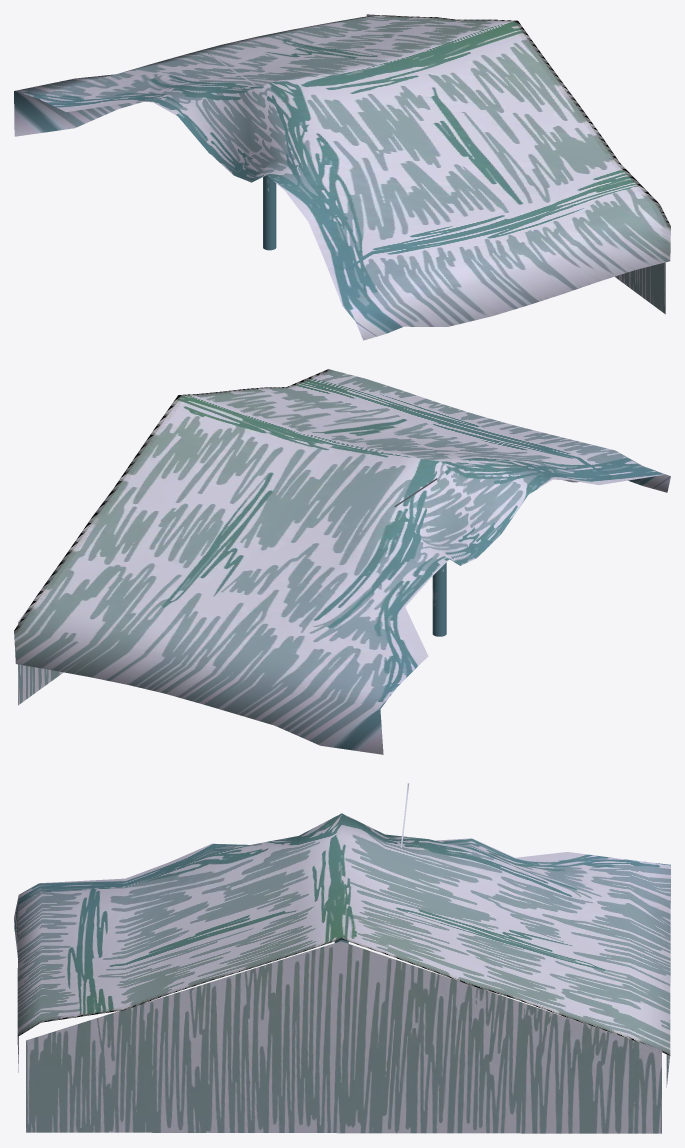
File: tent3_1953.glb
3 renders of one model, top to bottom at view 1: azimuth 30°, elevation 25°; view 2: azimuth 150°, elevation 25°; view 3: azimuth 270°, elevation 25°, orthographic. The views are drawn at different scales.
Visible parts, largest first — view 1: tent3_1953; view 2: tent3_1953; view 3: tent3_1953.
Boxes of the visible parts, box(x1,y1,x2,y2) form: tent3_1953: box(14, 14, 670, 340); tent3_1953: box(14, 369, 670, 754); tent3_1953: box(14, 783, 670, 1133).
Bounding box in the file's own units: 6.16 × 3.3 × 9.48.
1 material, 1 textured.
